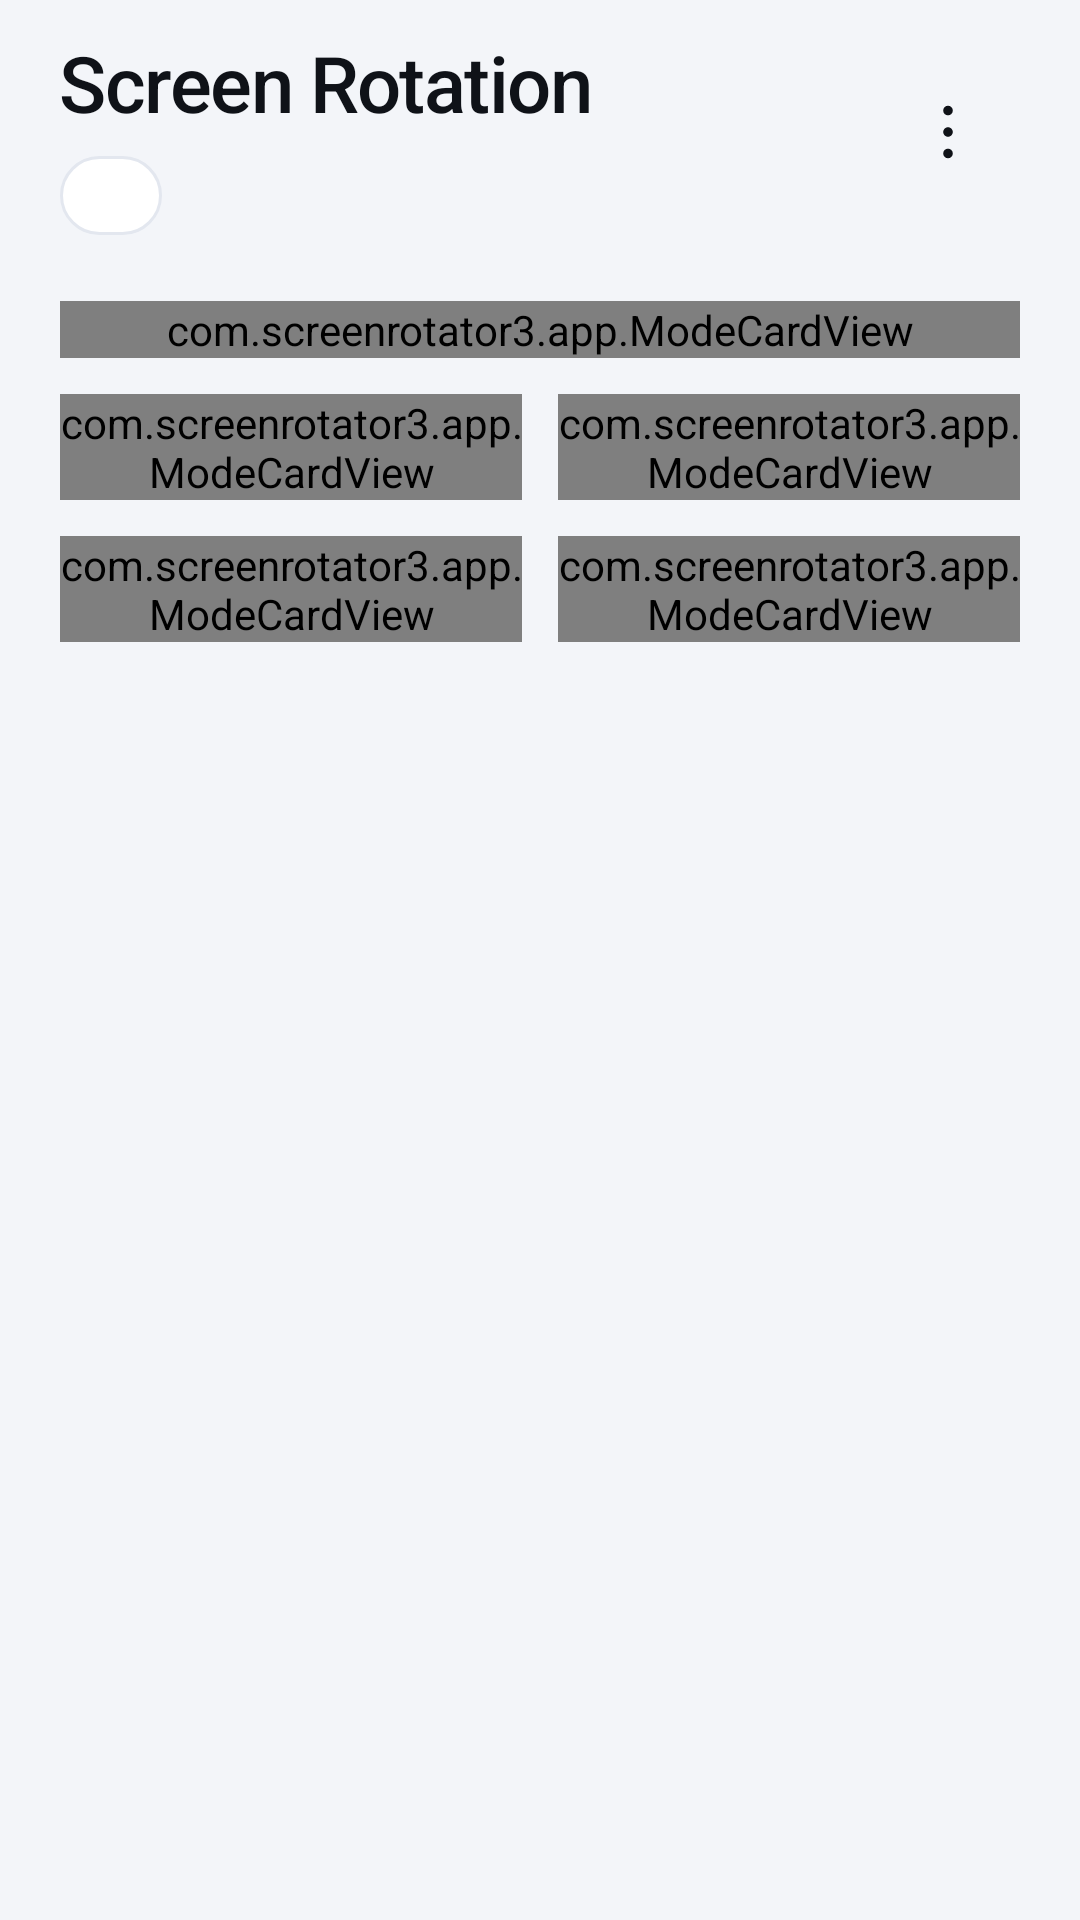

Where to tap for icons on this 1080×1920 app screen, as point (x, y):
Open menu: point (948, 132)
